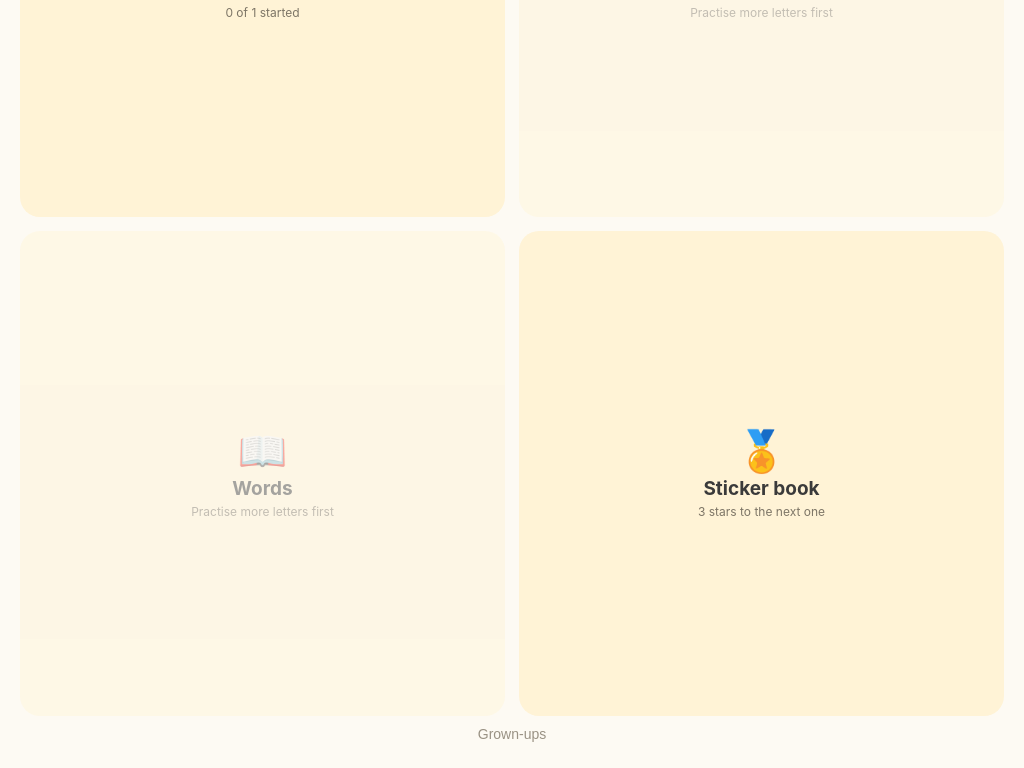
Scenario: App › shows the sticker book with everything still locked
This screenshot has width=1024, height=768.
(page scrolled)
Click the button "🏅 Sticker book 3 stars to the next one": (548, 474) top-left (519, 231), bottom-right (1004, 716)
(page scrolled)
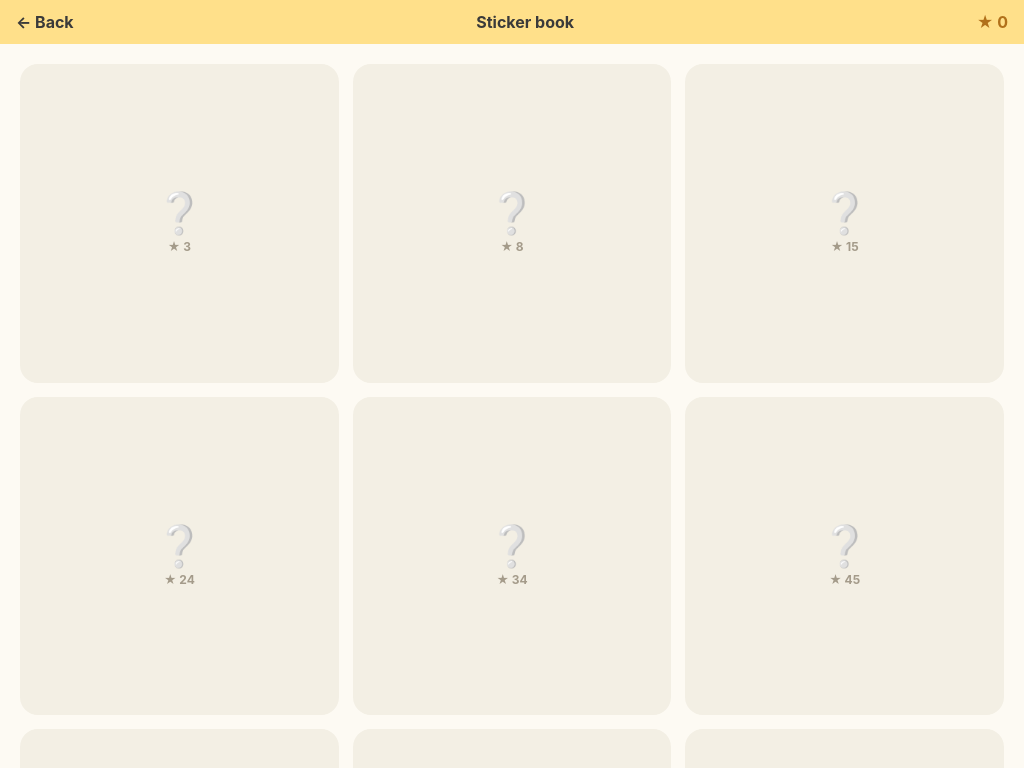
Expected: the text "★ 3" is shown, top-left (168, 239), bottom-right (191, 254)
